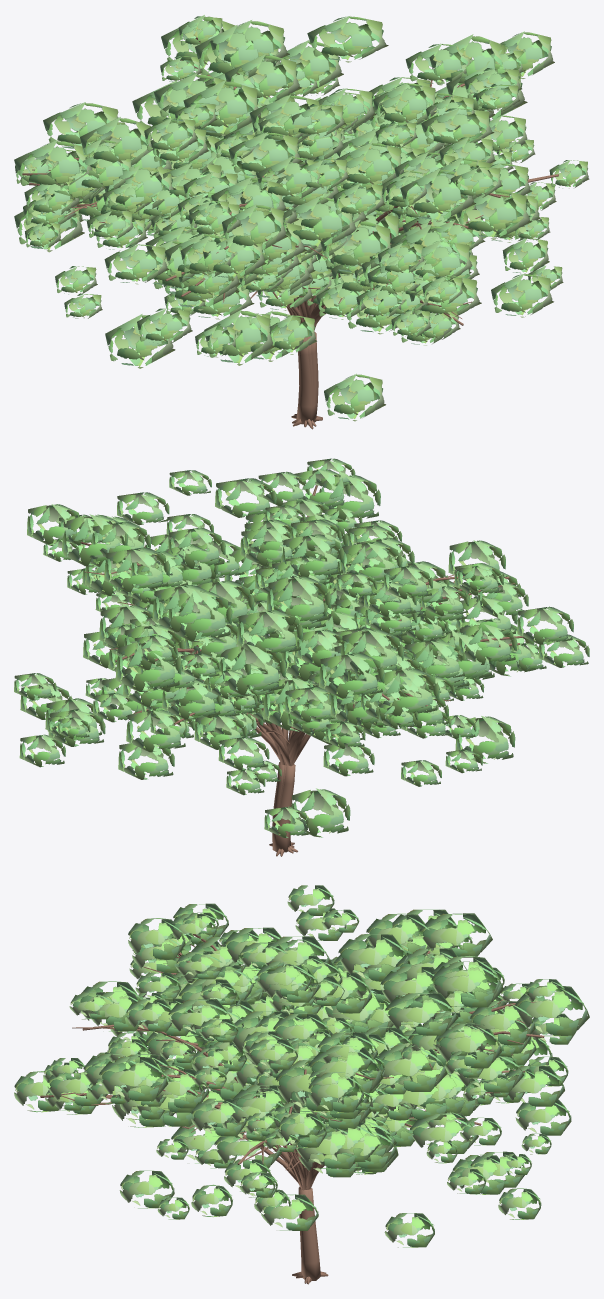
The model's file is cherry.glb.
3 renders of one model, top to bottom at view 1: azimuth 30°, elevation 25°; view 2: azimuth 150°, elevation 25°; view 3: azimuth 270°, elevation 25°, orthographic. The views are drawn at different scales.
Parts seen in each view (by area): view 1: CherryTree_4, CherryTree_5, CherryTree_2, CherryTree_1, CherryTree_3; view 2: CherryTree_4, CherryTree_1, CherryTree_5, CherryTree_3, CherryTree_2; view 3: CherryTree_4, CherryTree_2, CherryTree_3, CherryTree_5, CherryTree_1.
Part boxes in pixels (x1=…): CherryTree_4: x1=14, y1=15, x2=554, y2=429; CherryTree_5: x1=14, y1=80, x2=589, y2=427; CherryTree_2: x1=42, y1=25, x2=556, y2=425; CherryTree_1: x1=74, y1=20, x2=525, y2=426; CherryTree_3: x1=23, y1=105, x2=563, y2=423; CherryTree_4: x1=27, y1=470, x2=538, y2=852; CherryTree_1: x1=14, y1=492, x2=573, y2=856; CherryTree_5: x1=20, y1=478, x2=589, y2=856; CherryTree_3: x1=82, y1=458, x2=547, y2=855; CherryTree_2: x1=95, y1=511, x2=517, y2=851; CherryTree_4: x1=47, y1=885, x2=589, y2=1282; CherryTree_2: x1=14, y1=936, x2=575, y2=1284; CherryTree_3: x1=69, y1=912, x2=571, y2=1280; CherryTree_5: x1=40, y1=908, x2=551, y2=1280; CherryTree_1: x1=43, y1=903, x2=564, y2=1283.
Bounding box in the file's own units: 5.97 × 3.78 × 5.94.
Materials: 2 (1 with a texture image).
